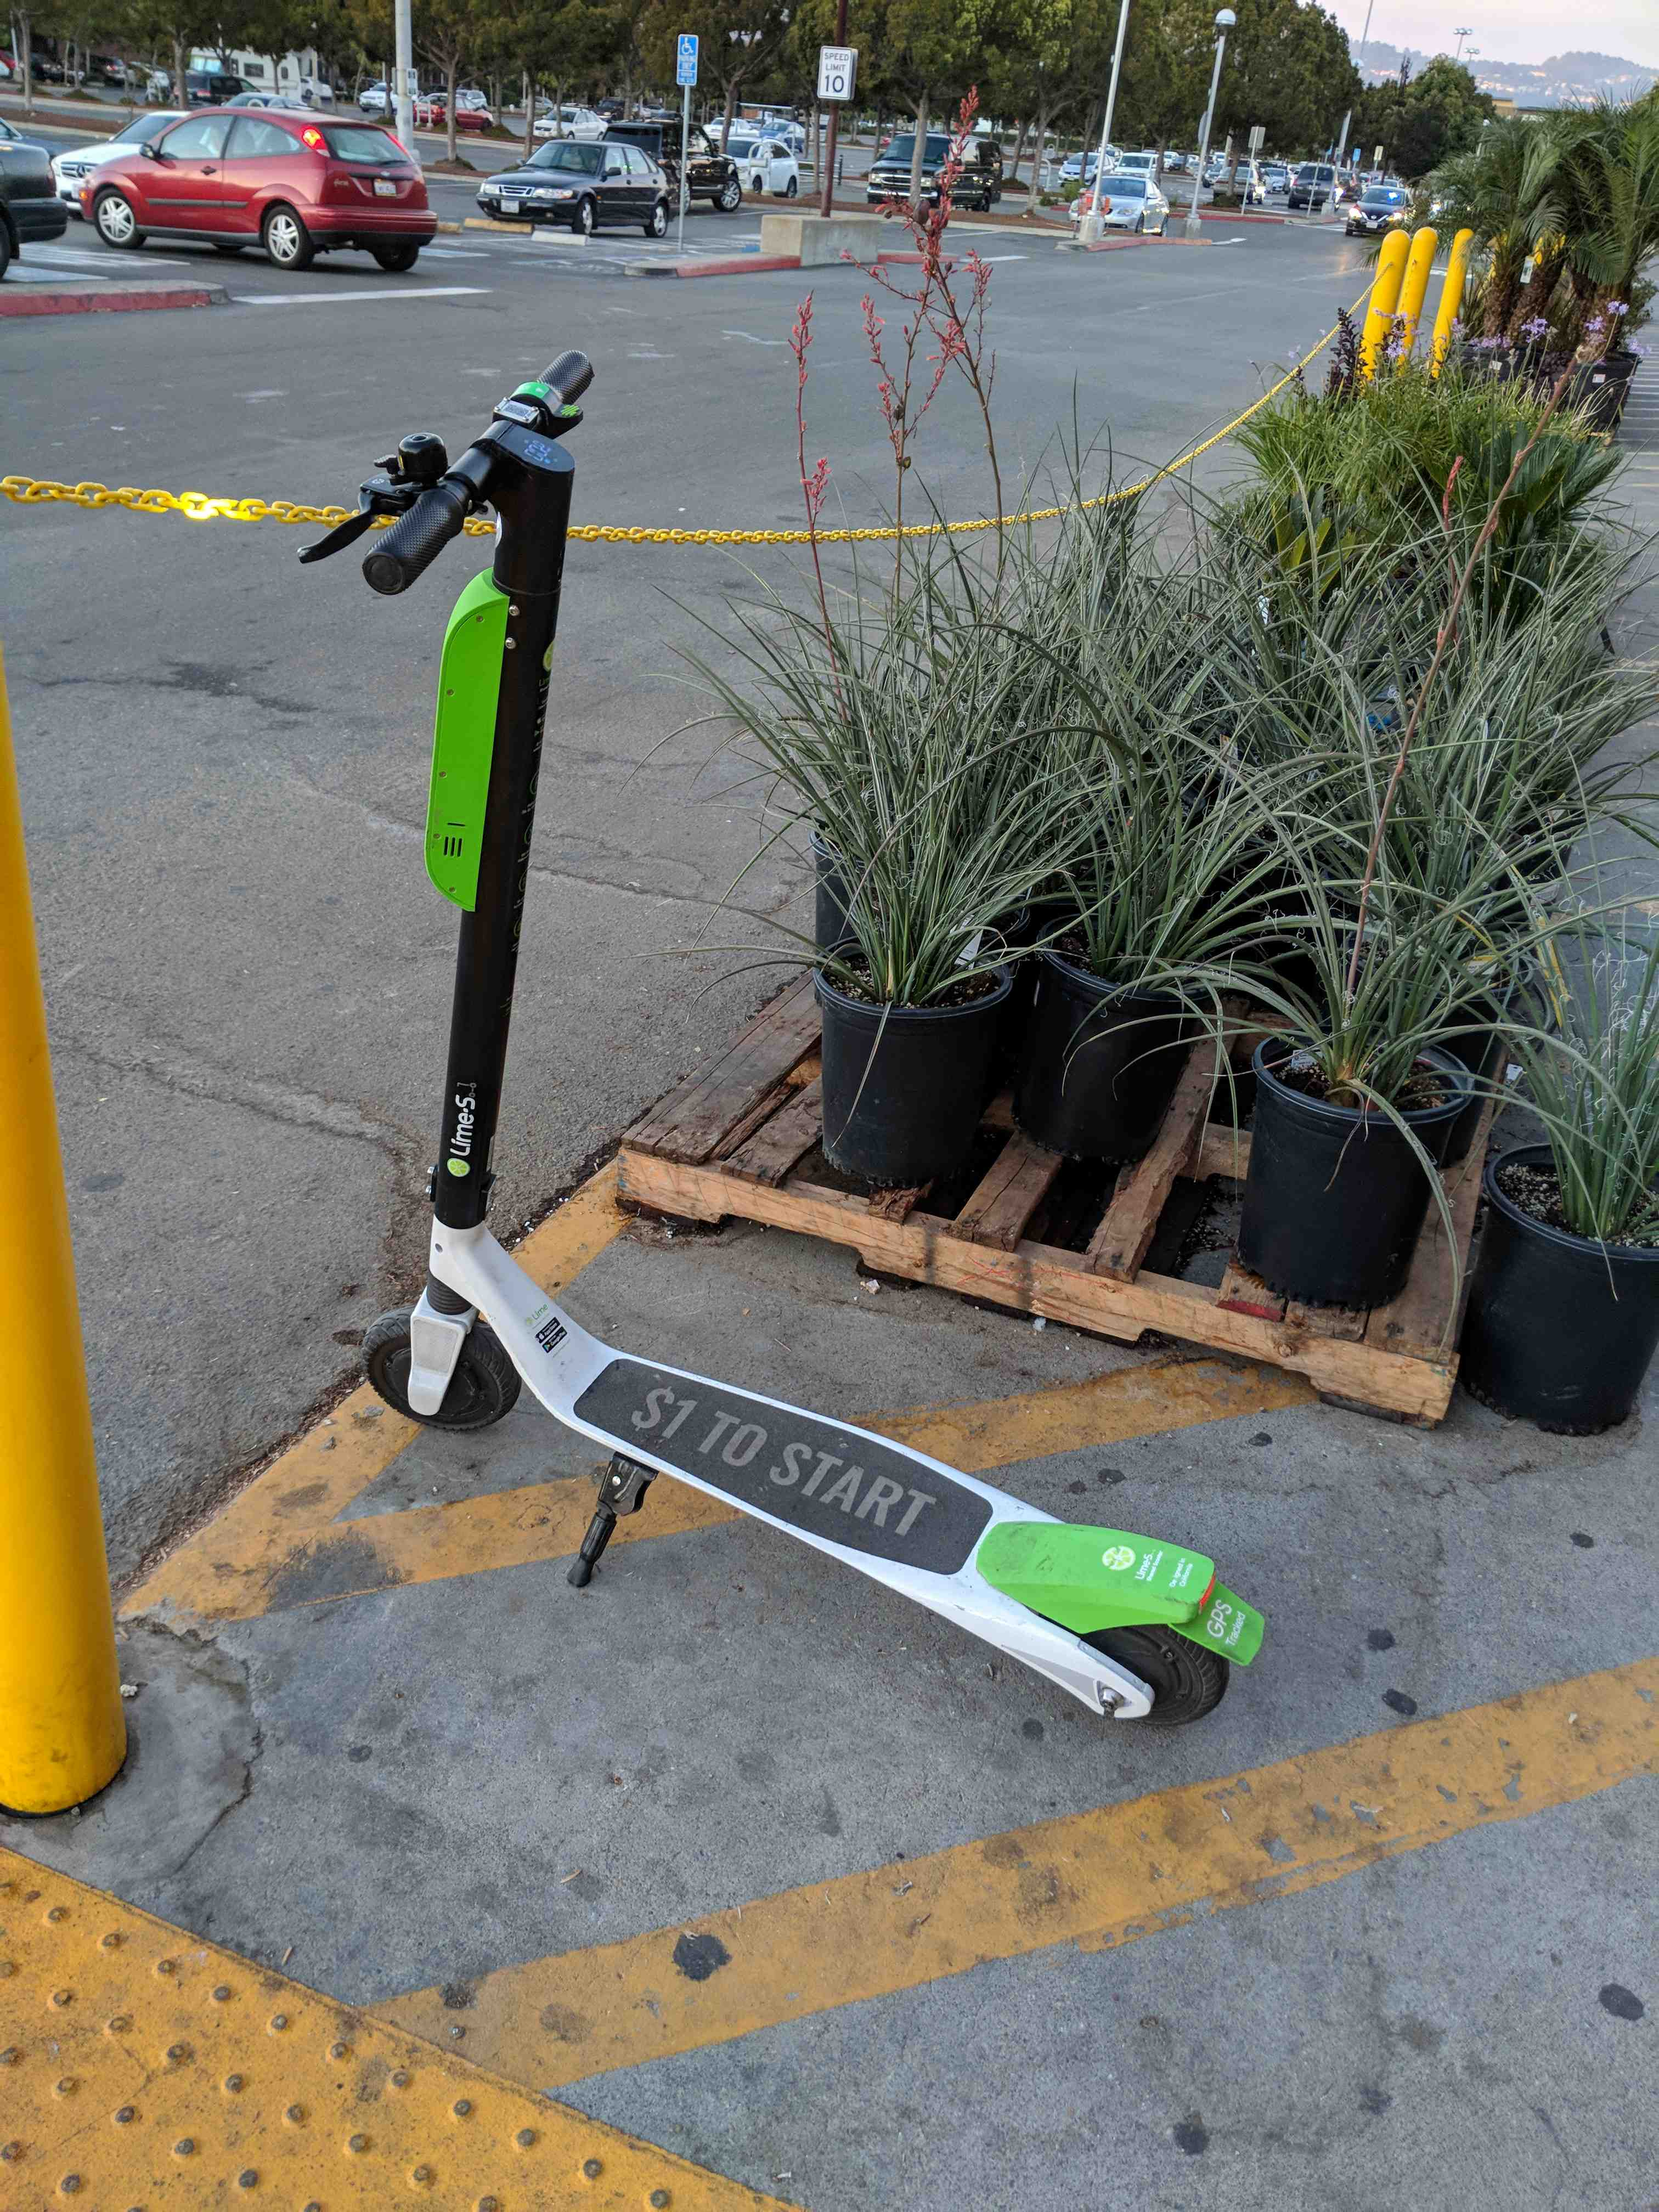scooter: (300, 334, 1265, 1749)
